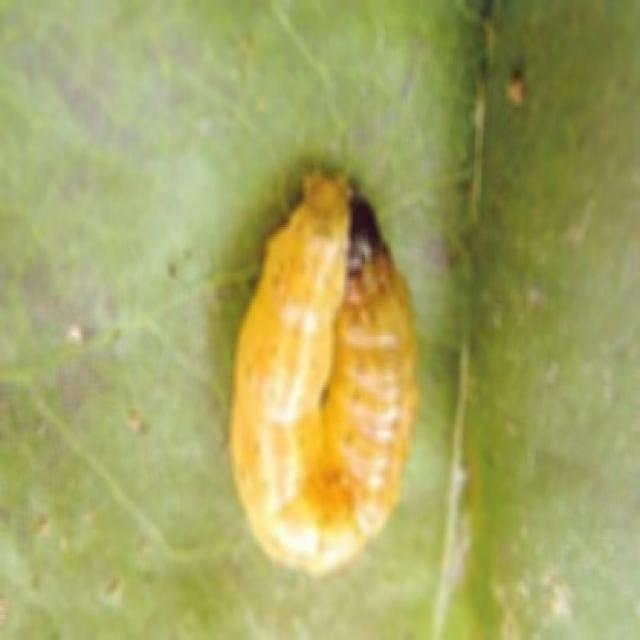peach borer: (227, 178, 433, 577)
